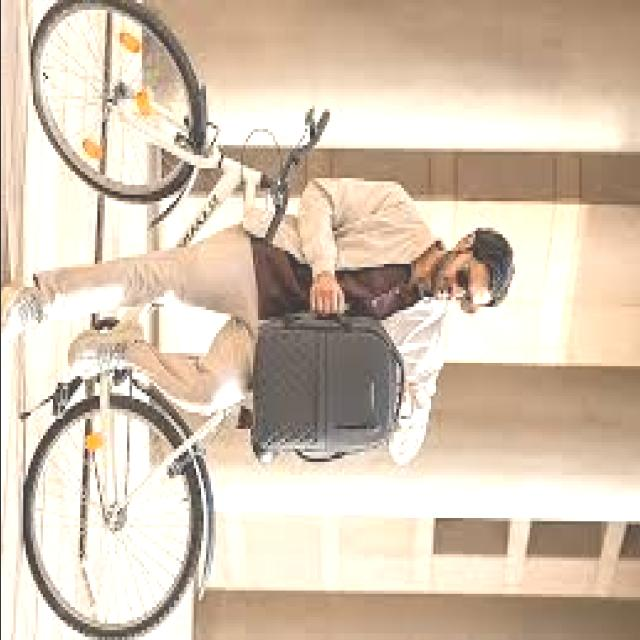backpack: (251, 308, 409, 463)
